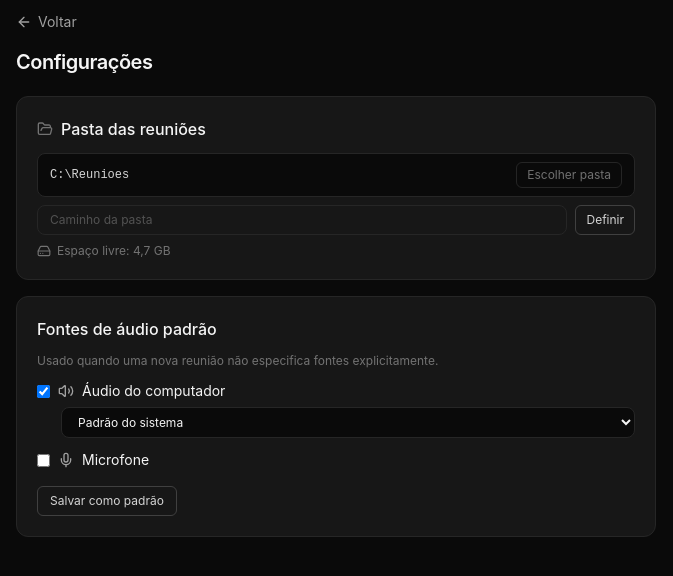
Test case: Settings › mostra a recusa do backend ao definir o caminho manual
In the field with placeholder "Caminho da pasta": x=302, y=220 [37,205,568,235], type "Z:\\nada"
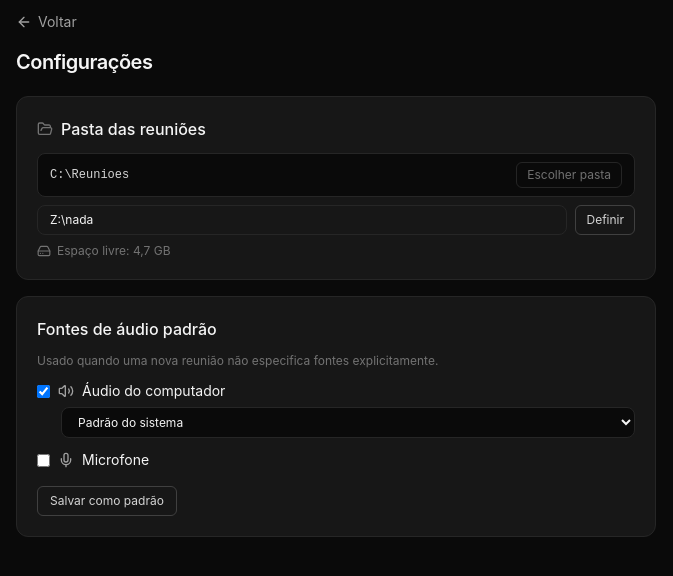
Click the button "Definir": x=605, y=220 [576,205,635,235]
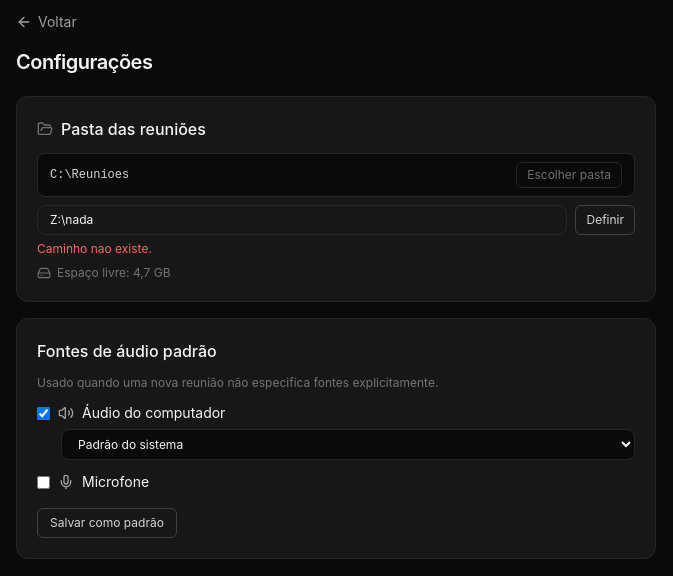
Expected: the text "Caminho nao existe." is shown, [37,241,152,256]
